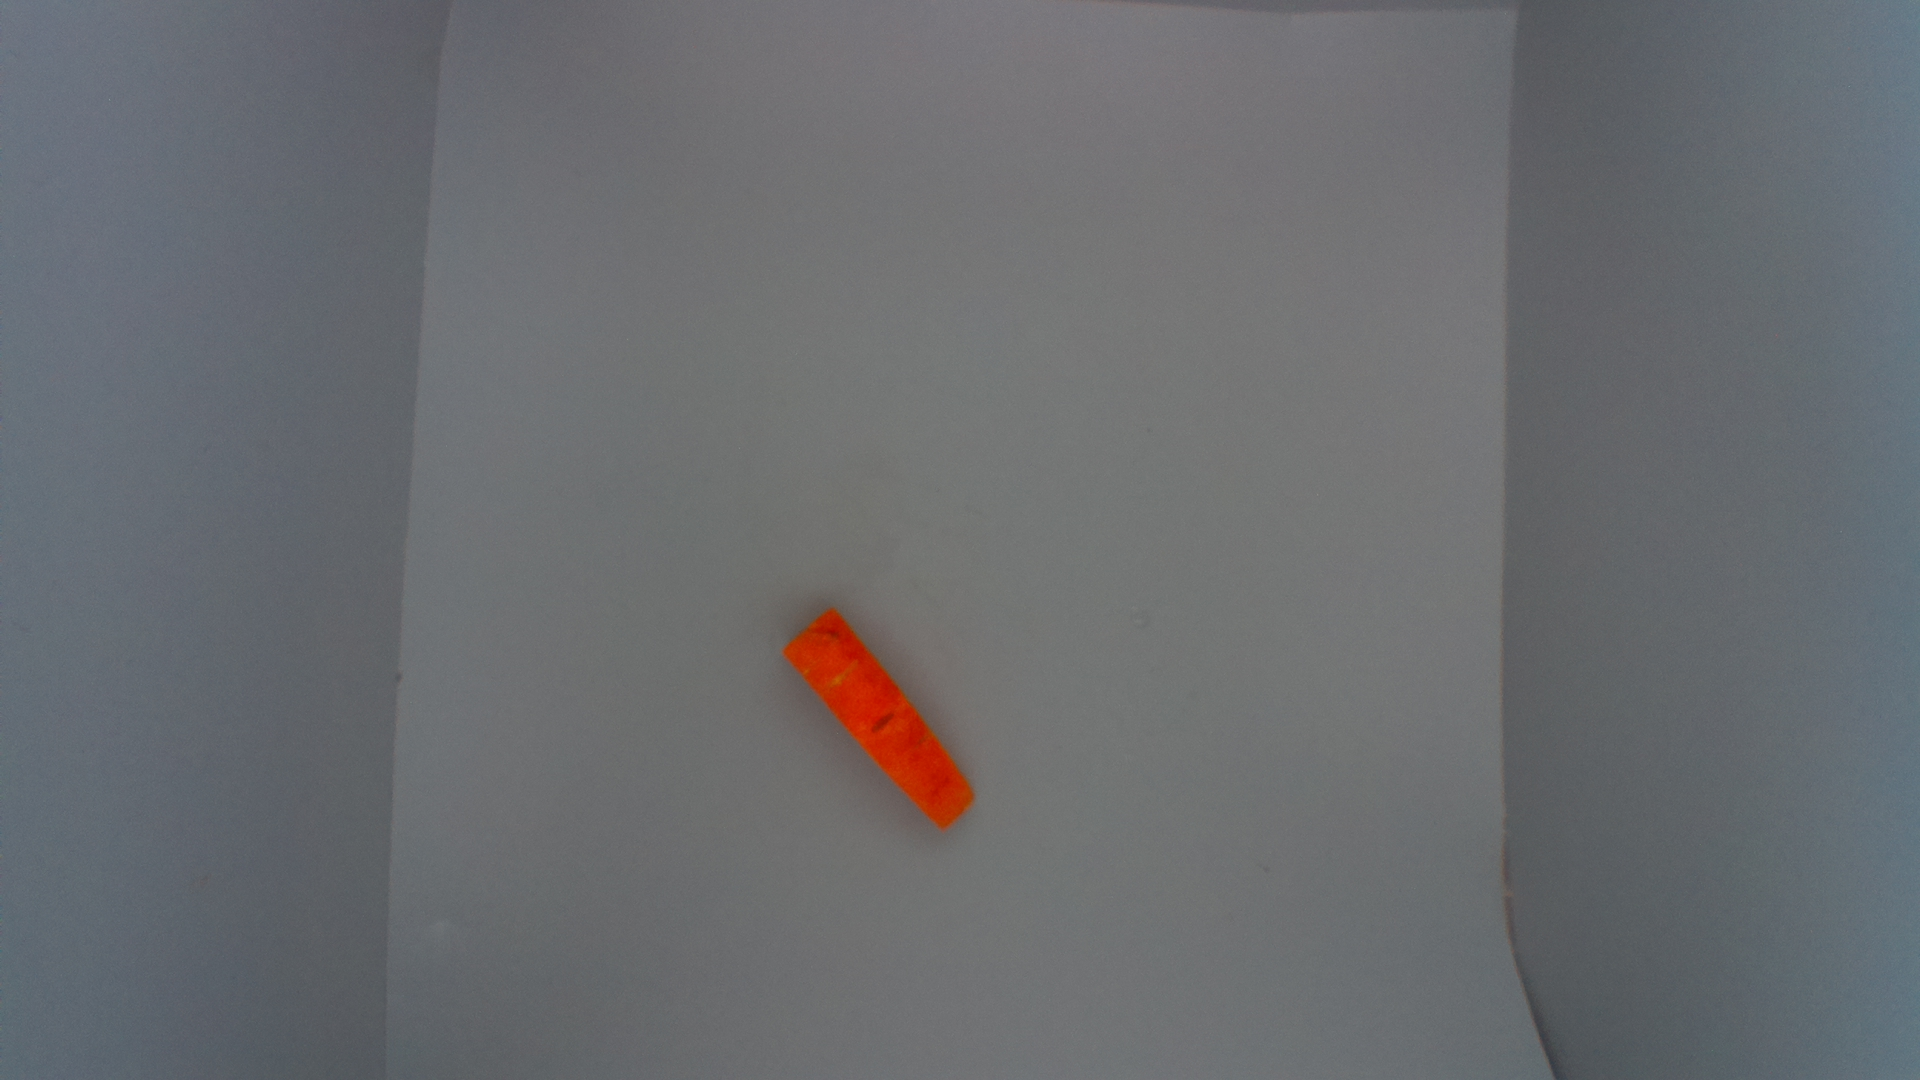carrot: (785, 609, 982, 829)
